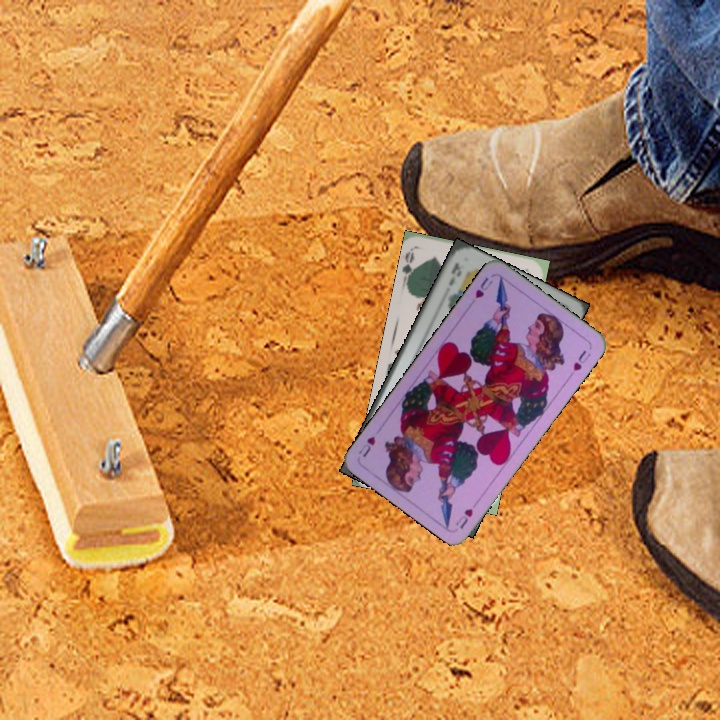EK: (445, 258, 464, 289)
GO: (398, 246, 421, 288)
HU: (452, 496, 482, 531), (471, 273, 495, 301)
